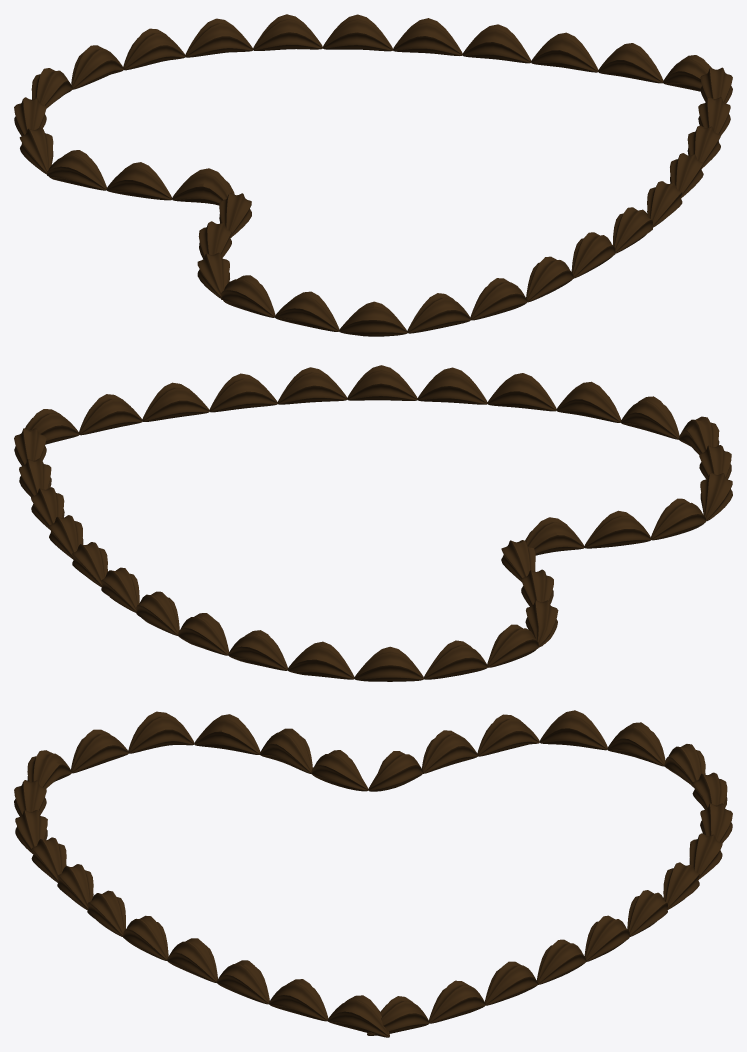
The model's file is DecoGlazeChoco.glb.
3 views of the same model, one above another, from view 1: azimuth 30°, elevation 25°; view 2: azimuth 150°, elevation 25°; view 3: azimuth 270°, elevation 25° (orthographic).
Parts seen in each view (by area): view 1: Star.028; view 2: Star.028; view 3: Star.028.
Part boxes in pixels (x1=…): Star.028: x1=14, y1=14, x2=732, y2=336; Star.028: x1=14, y1=365, x2=732, y2=681; Star.028: x1=14, y1=710, x2=732, y2=1037.
Size of the model in its own units: 1.57 by 0.0968 by 1.61.
